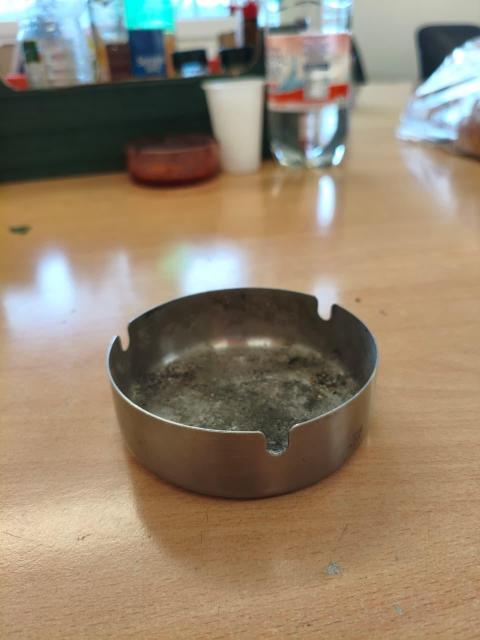Kagit: (203, 77, 270, 172)
Metal: (87, 285, 392, 505)
Plastik: (265, 0, 362, 172), (267, 38, 350, 105)
